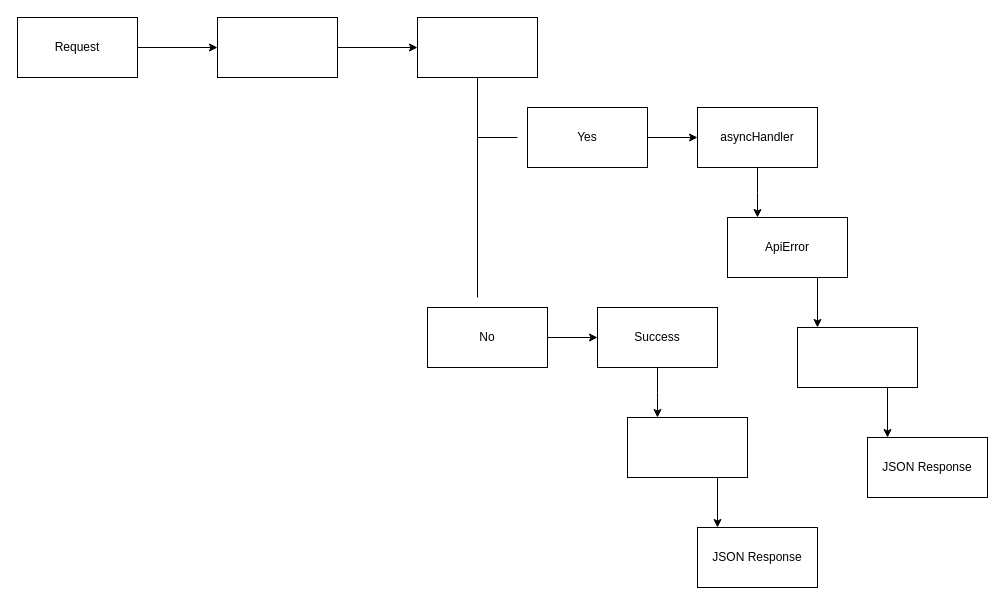
Some shapes in this 1005 by 605 pixel diagram are drawn without their labels. The centre of each missing label's shape, as x and y in pixels:
ApiResponse: (x=687, y=447)
Controller: (x=277, y=47)
Error Middleware: (x=857, y=357)
Error?: (x=477, y=47)
